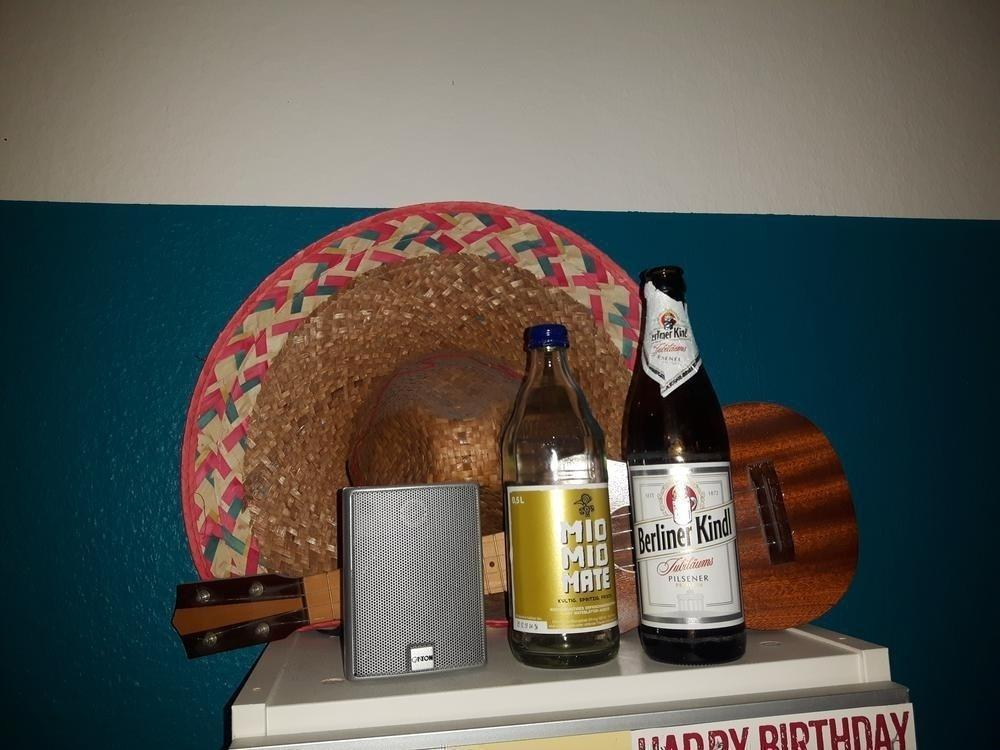bottle-glass: (620, 264, 747, 667), (500, 320, 622, 668)
